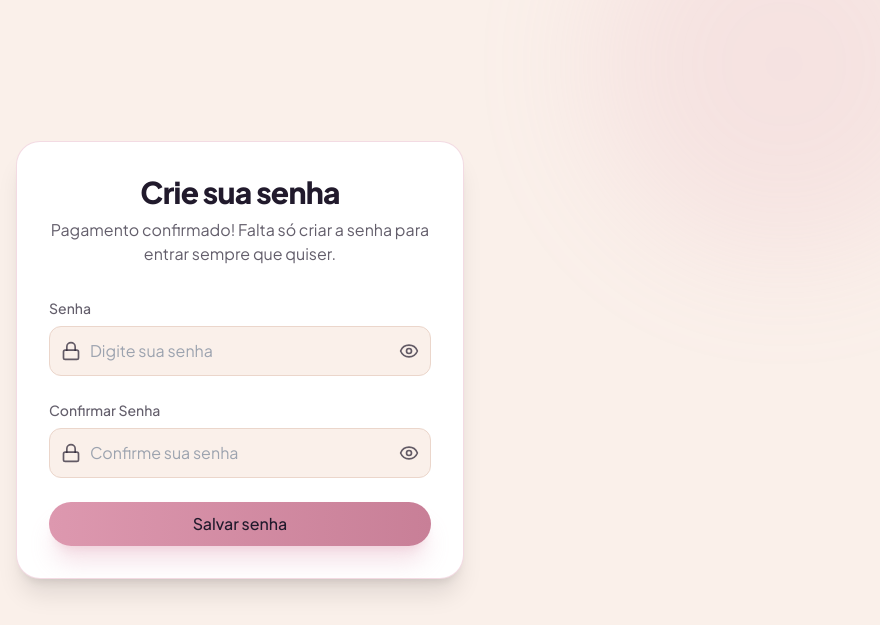
Test: FirstAccess (/primeiro-acesso) › senhas diferentes bloqueiam o envio
This screenshot has width=880, height=625.
Expected: the heading "Crie sua senha" is shown, [140,173,340,211]
Type "abc123" into the password field labelled "Senha". click: (240, 351)
box: [49,326,431,376]
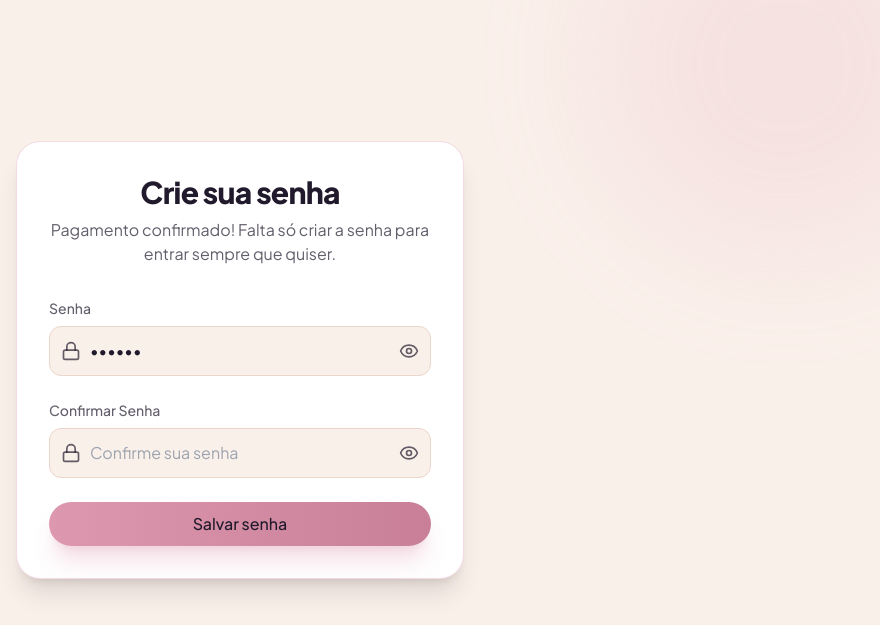
Type "xyz999" into the password field labelled "Confirmar Senha". click: (240, 453)
box: [49,428,431,478]
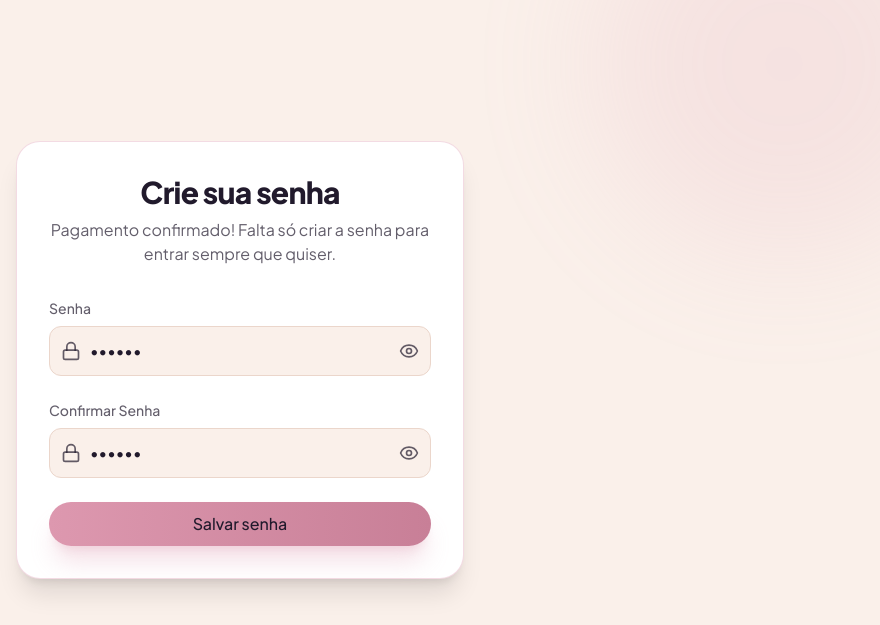
Click the button "Salvar senha". click: (240, 524)
box: [49,502,431,546]
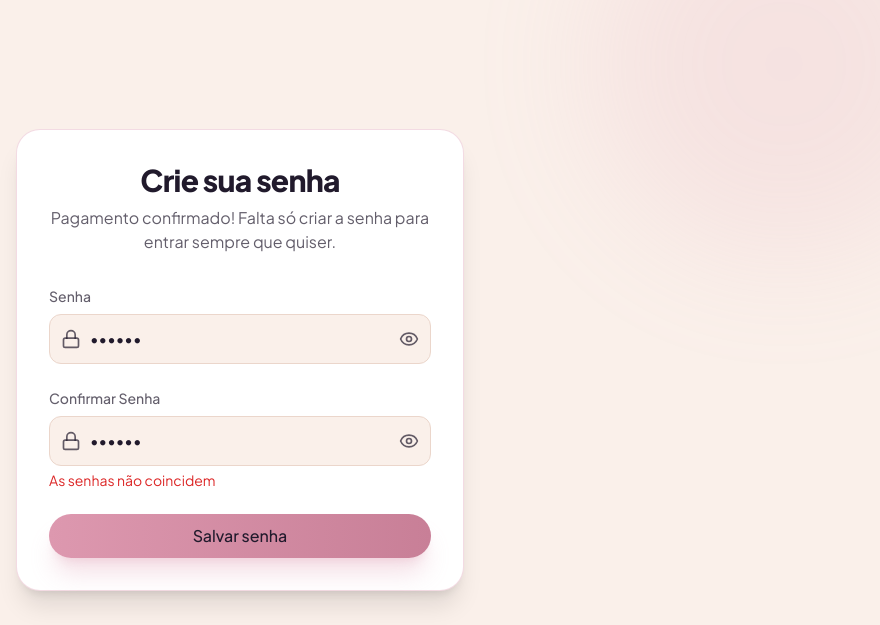
Expected: the text "As senhas não coincidem" is shown, [49,471,216,489]
